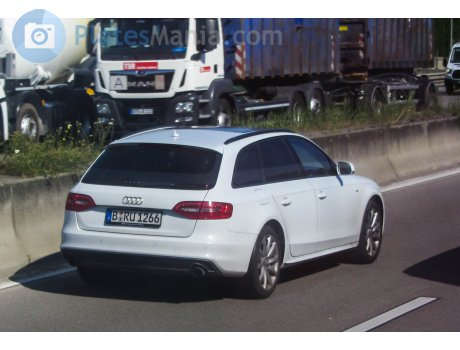License Plates: (111, 208, 164, 229)
